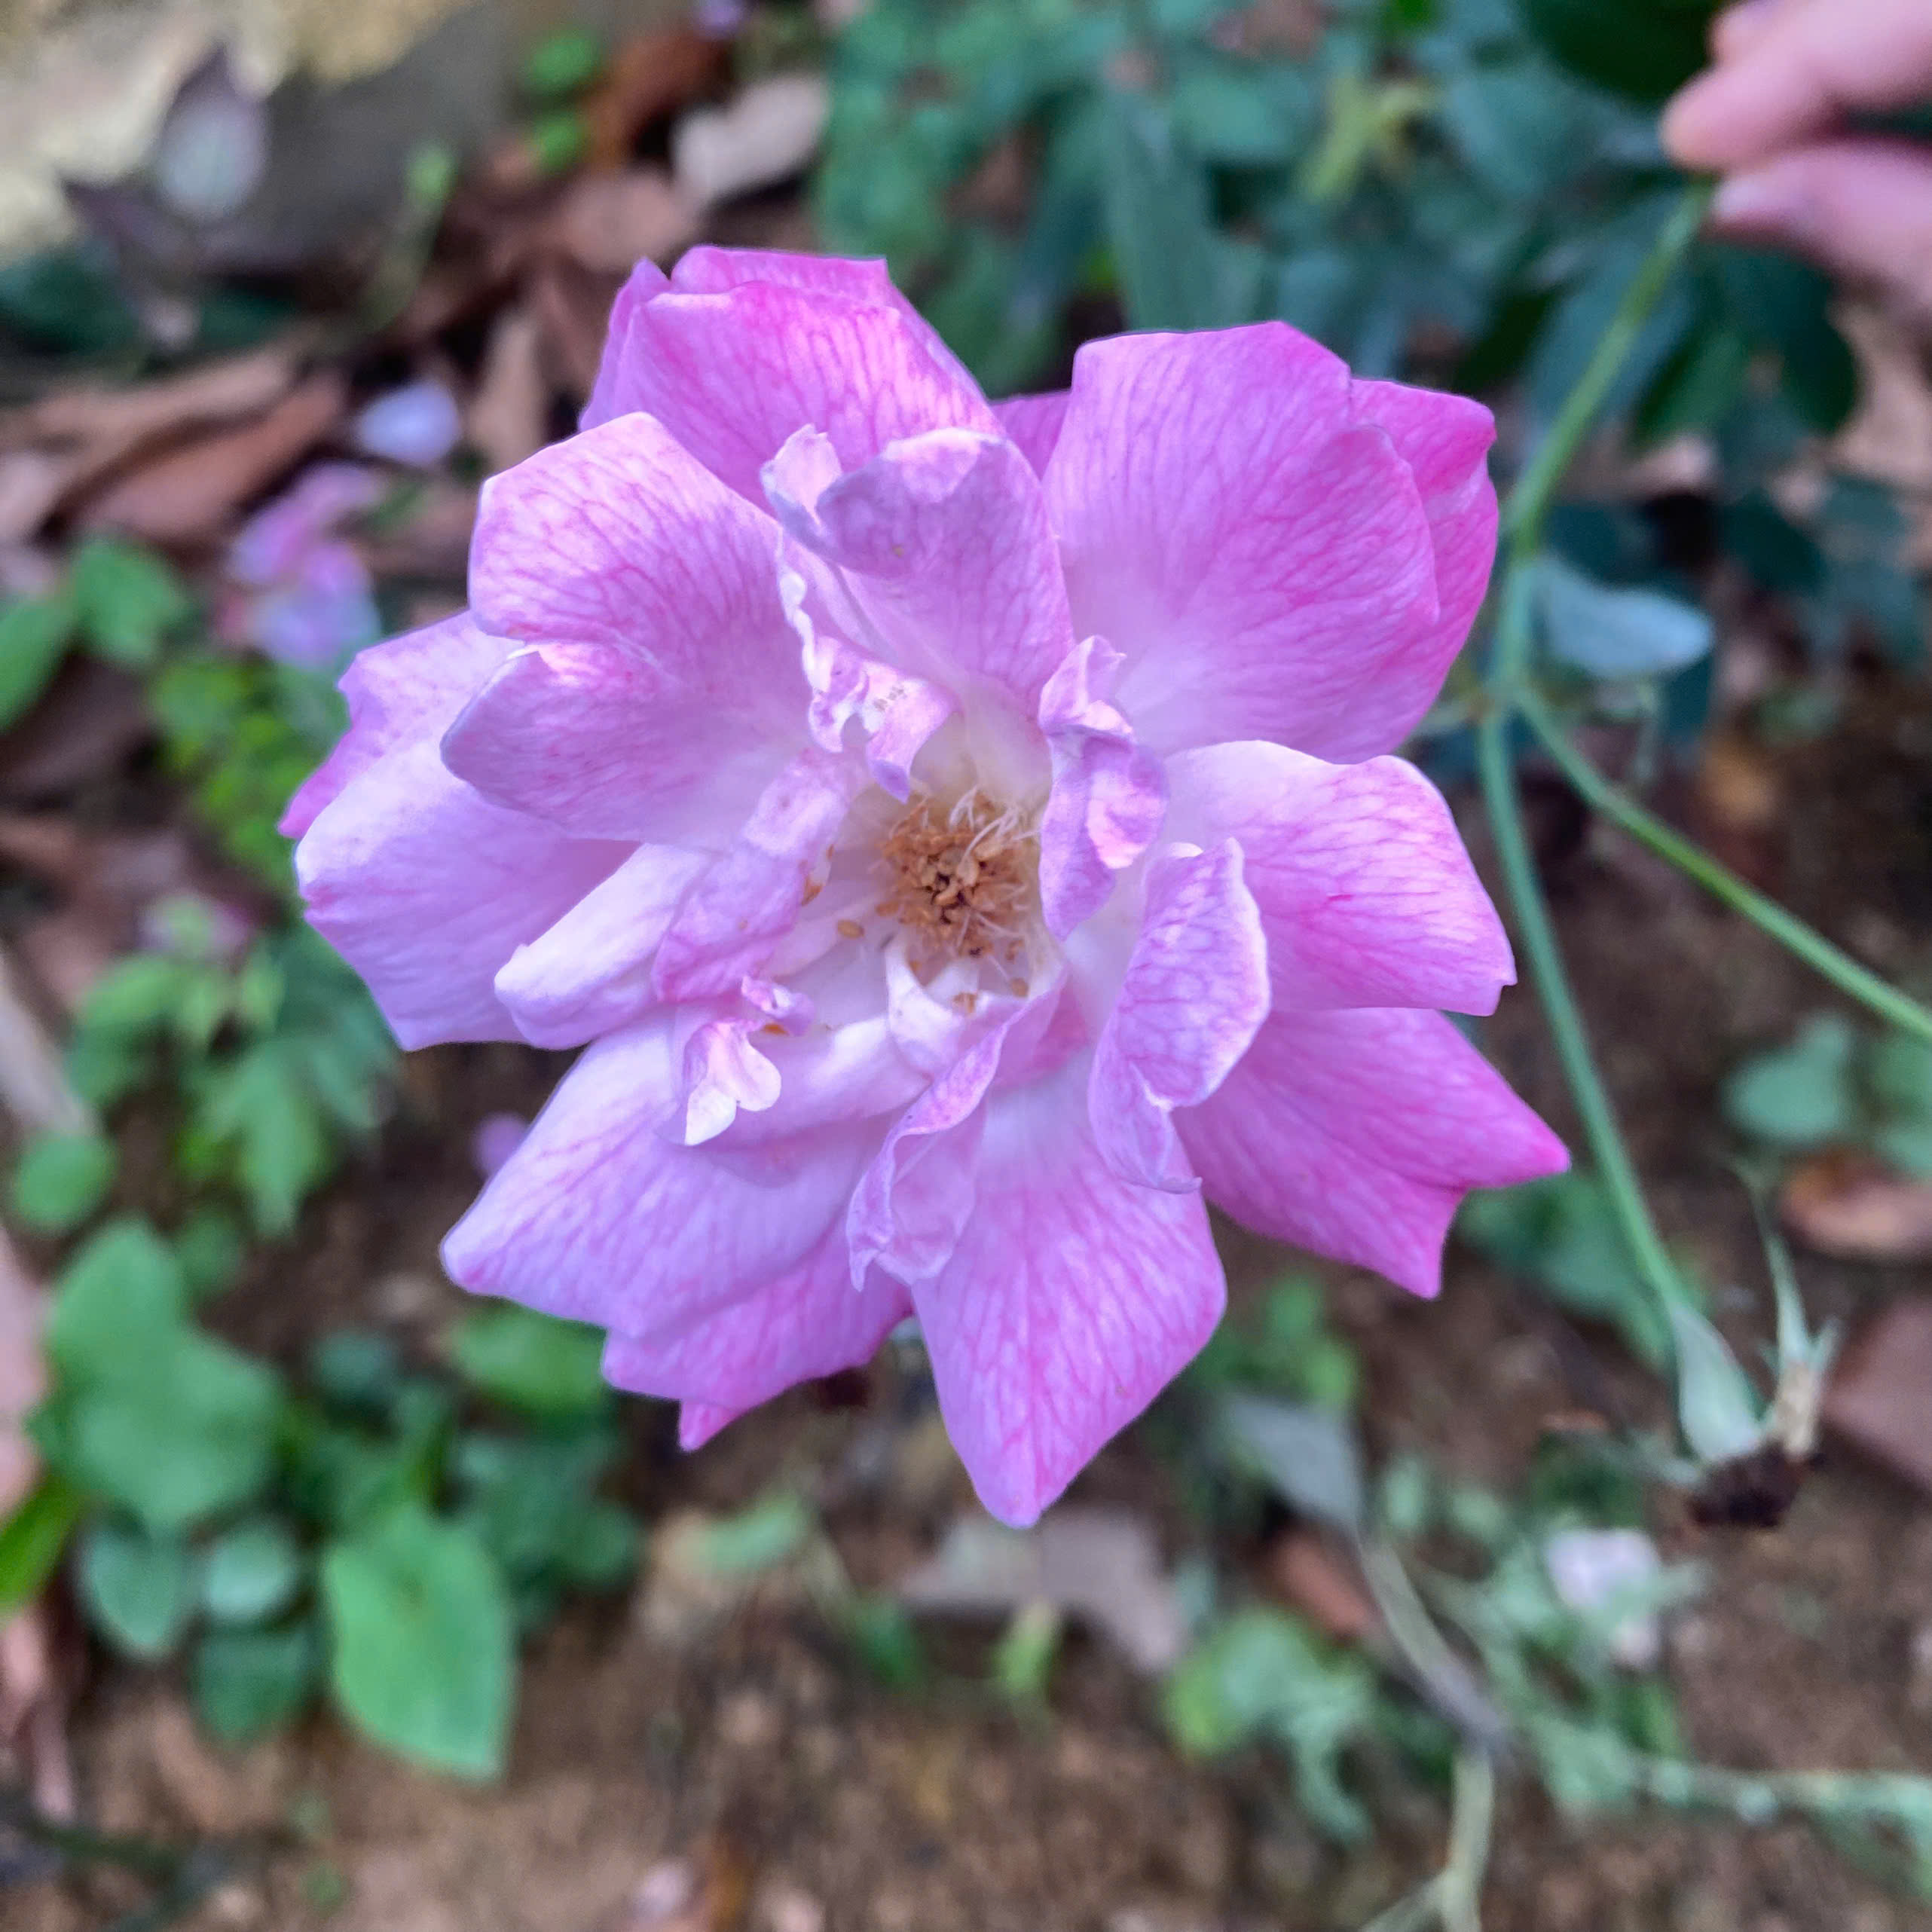hoa_hong_phan: (267, 216, 1674, 1553)
